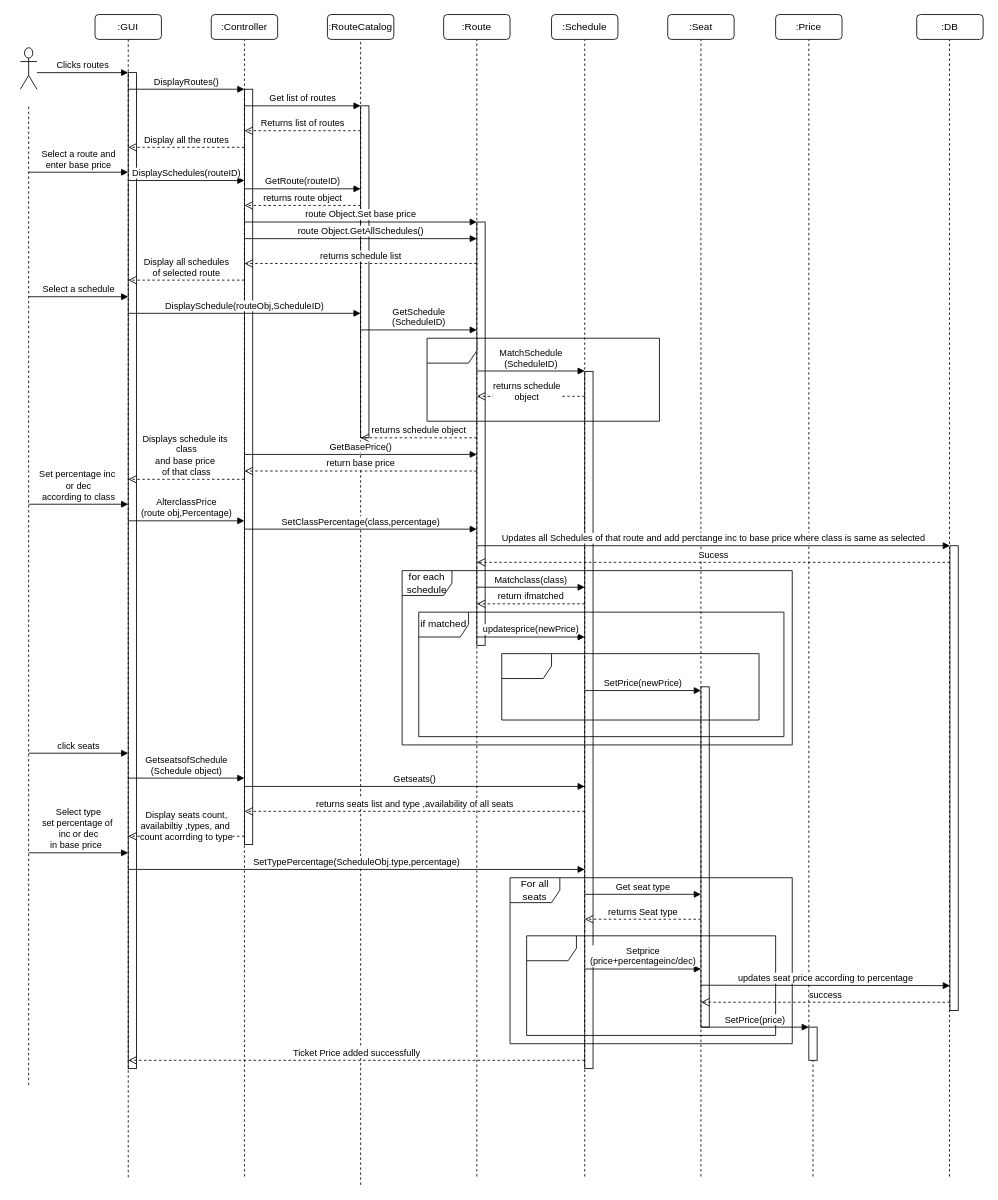
This 998x1200 diagram has some shape labels left out. The centre of each missing label's shape, as x and y in pixels:
"Admin" goes at point (28, 68).
"for each seat" goes at point (630, 686).
"frame" goes at point (542, 379).
"if type same" goes at point (651, 985).
